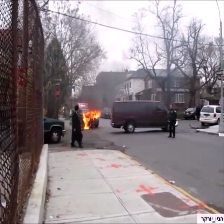fire: (81, 111, 101, 129)
